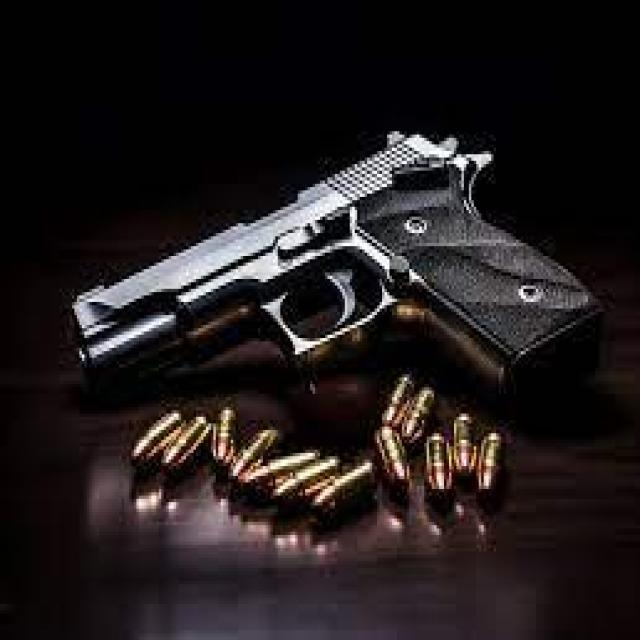gun: (67, 127, 603, 397)
